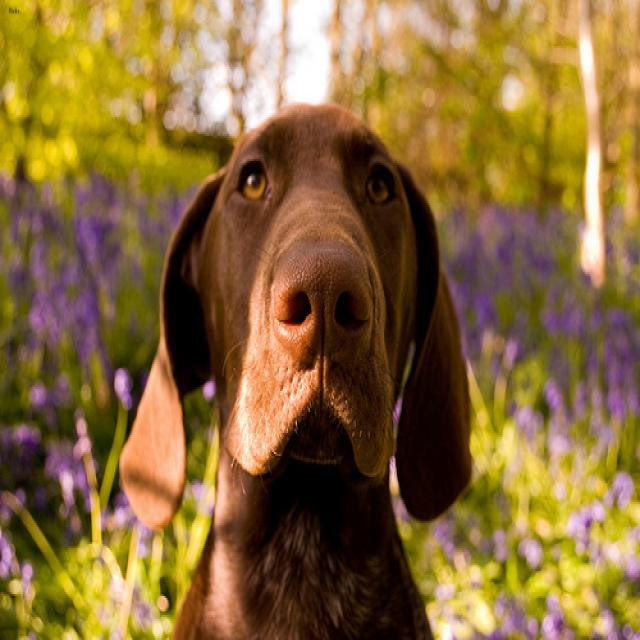dog-german_shorthaired: (111, 84, 476, 636)
